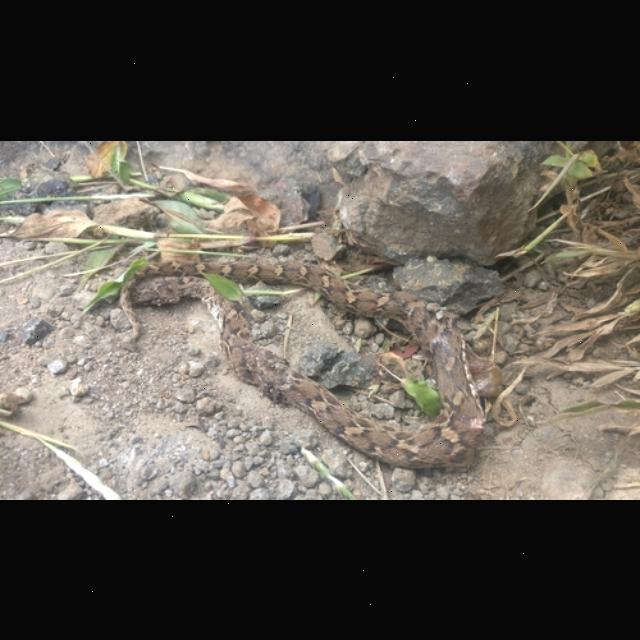snake: (106, 243, 504, 471)
